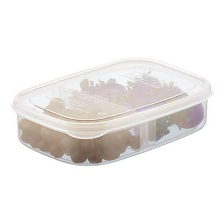plastic_box: (0, 51, 224, 171)
